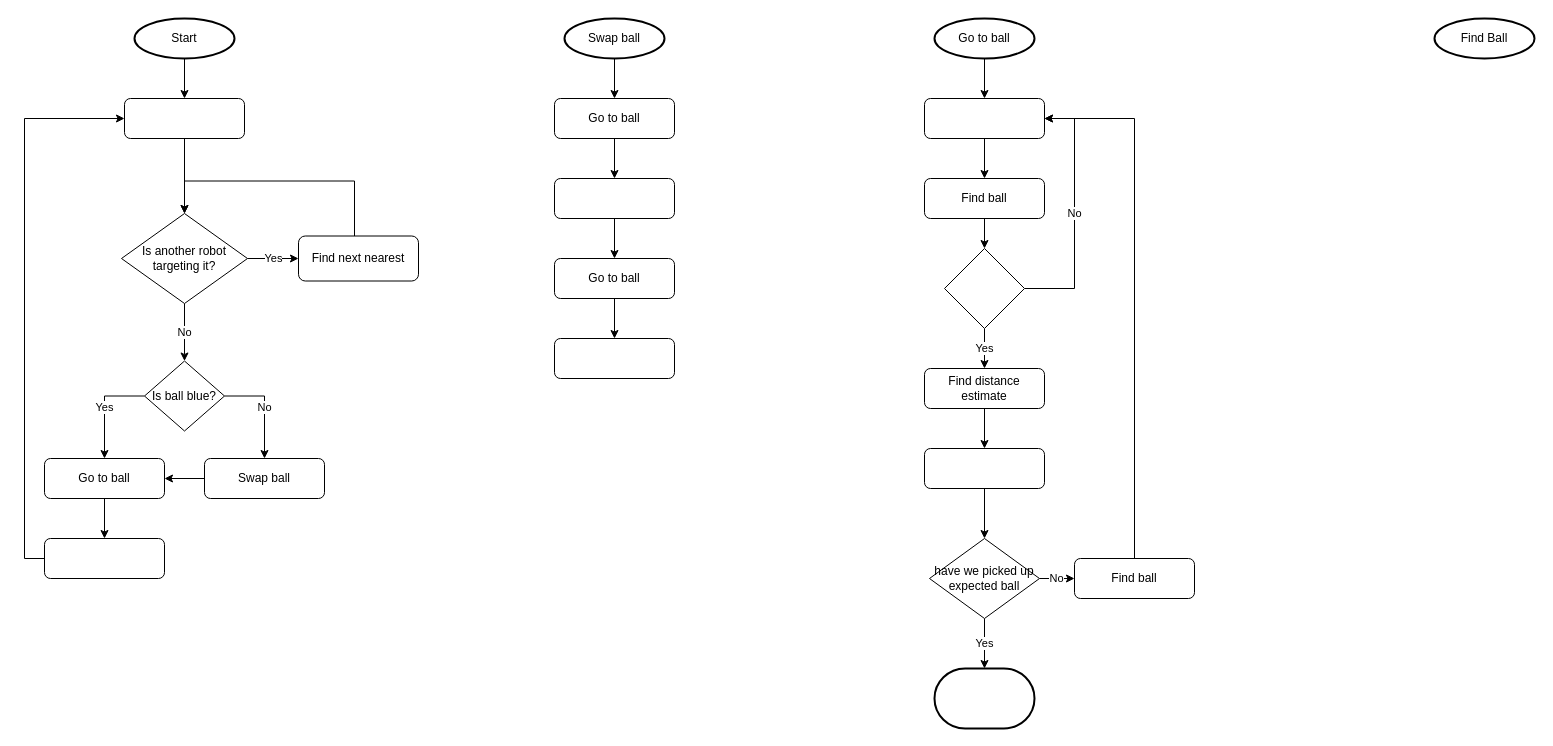
This 1553x746 diagram has some shape labels left out. The shapes that lost their labels are listed below. From the top down, each one's centre as x and y in pixels, then its label:
At (x=184, y=118): "Find nearest ball".
At (x=984, y=118): "Turn expected angle".
At (x=614, y=198): "Find blue ball".
At (x=984, y=288): "Is angle within tolerance?".
At (x=614, y=358): "Go to spawn (without ball collision)".
At (x=984, y=468): "Go forwards expected distance".
At (x=104, y=558): "Go to spawn".
At (x=984, y=698): "End".
